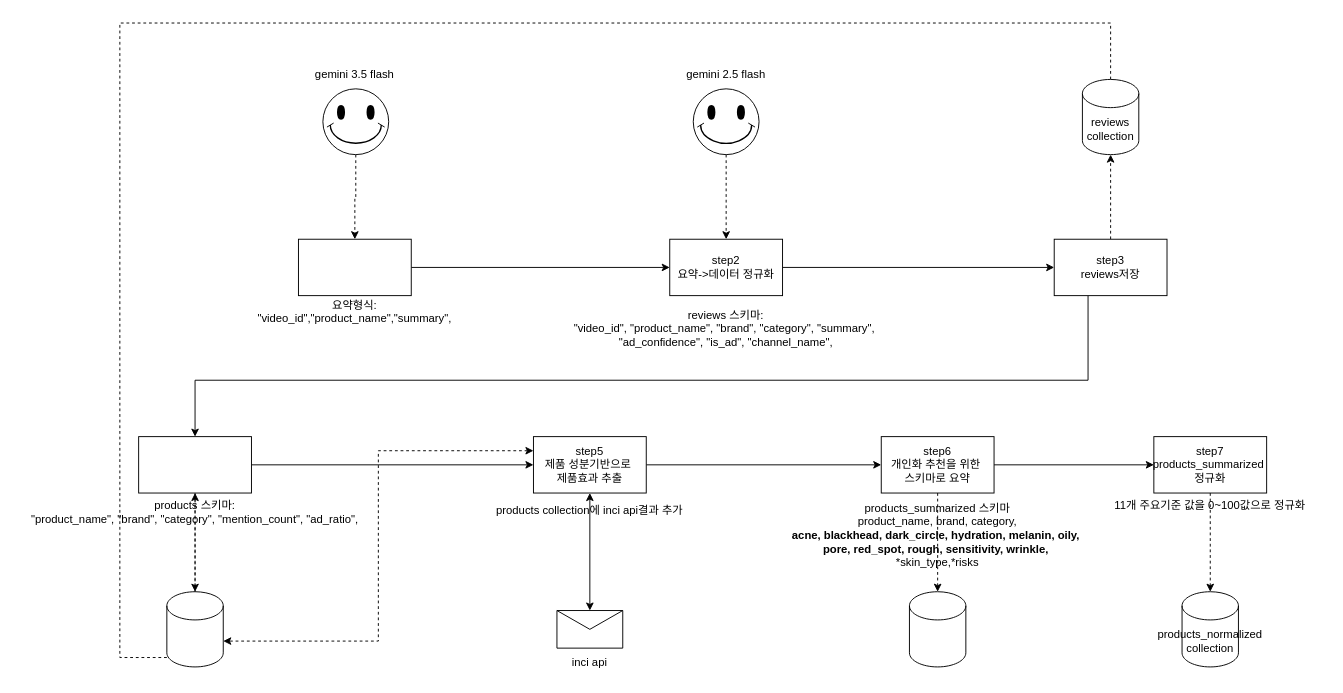
Image size: 1343x693. Some labels were removed from this diagram. The box of each missing label's shape, as (x1, y1, x2, y2) in pixels:
products collection: (166, 591, 223, 667)
products_summarized collection: (909, 591, 966, 667)
step1 영상요약: (298, 238, 411, 296)
step4 리뷰->상품 추출 및 저장: (138, 436, 251, 493)
